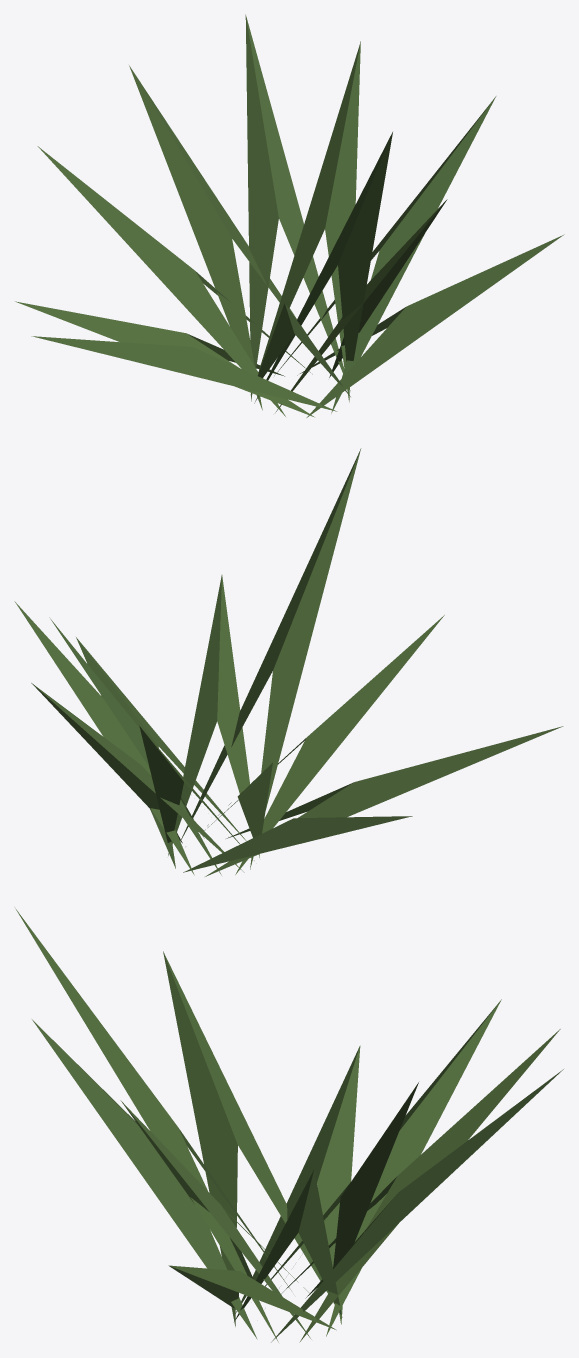
File: palmetto.glb
The picture shows the model from 3 angles, top to bottom: view 1: azimuth 30°, elevation 25°; view 2: azimuth 150°, elevation 25°; view 3: azimuth 270°, elevation 25°; orthographic projection. The views are drawn at different scales.
Visible parts, largest first — view 1: palmetto; view 2: palmetto; view 3: palmetto.
Boxes of the visible parts, <box> form: palmetto: <box>15,14,564,417</box>; palmetto: <box>14,448,563,876</box>; palmetto: <box>15,908,563,1342</box>.
Bounding box in the file's own units: 1.09 × 0.7174 × 0.9042.
